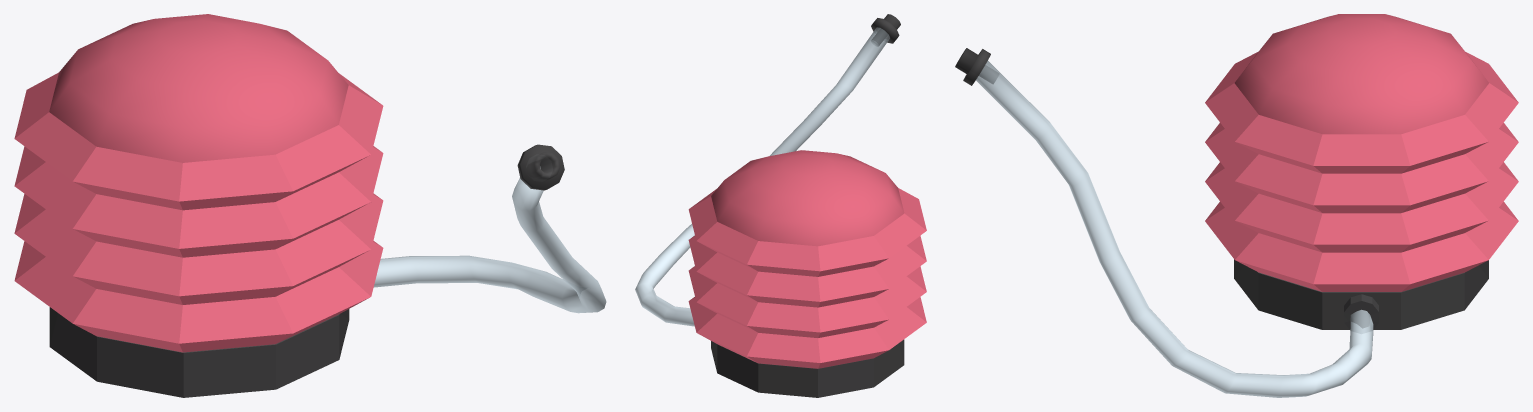
The model's file is pump_leg.fbx.
3 views of the same model, side by side, from view 1: azimuth 30°, elevation 25°; view 2: azimuth 150°, elevation 25°; view 3: azimuth 270°, elevation 25° (orthographic). The views are drawn at different scales.
Visible parts, largest first — view 1: leg pump 1, leg pump 2.001; view 2: leg pump 1, leg pump 2.001; view 3: leg pump 1, leg pump 2.001.
Part boxes in pixels (x1=…): leg pump 1: x1=14, y1=14, x2=383, y2=352; leg pump 2.001: x1=49, y1=144, x2=606, y2=397; leg pump 1: x1=688, y1=150, x2=926, y2=368; leg pump 2.001: x1=635, y1=14, x2=904, y2=397; leg pump 1: x1=1205, y1=14, x2=1518, y2=291; leg pump 2.001: x1=955, y1=48, x2=1488, y2=397.
Size of the model in its own units: 0.5788 by 0.3925 by 0.7311.
